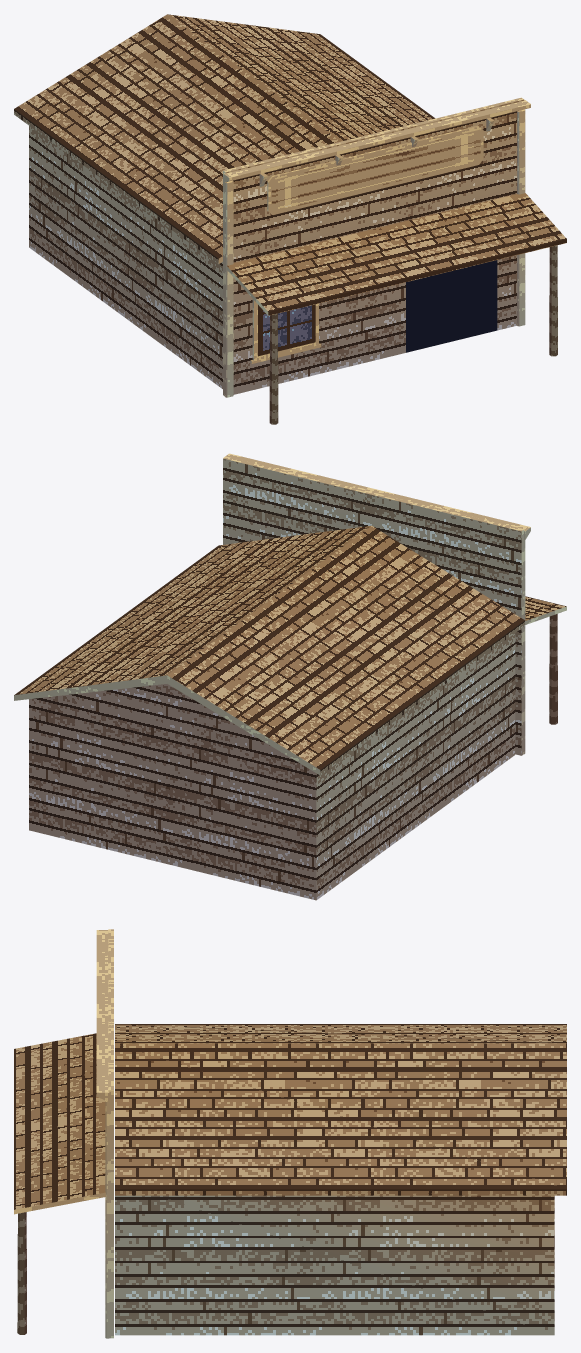
Rendered from wtown.store__entry.glb.
3 views of the same model, one above another, from view 1: azimuth 30°, elevation 25°; view 2: azimuth 150°, elevation 25°; view 3: azimuth 270°, elevation 25° (orthographic). The views are drawn at different scales.
Parts seen in each view (by area): view 1: kit_roof, kit_front, kit_body, kit_porch, kit_card_panes, kit_trim, kit_windows; view 2: kit_body, kit_roof, kit_front, kit_trim, kit_porch; view 3: kit_roof, kit_body, kit_porch, kit_trim, kit_front.
Part boxes in pixels (bbox=[...]): kit_roof: bbox=[14, 14, 435, 264]; kit_front: bbox=[223, 97, 524, 395]; kit_body: bbox=[29, 126, 222, 388]; kit_porch: bbox=[226, 193, 566, 424]; kit_card_panes: bbox=[258, 129, 497, 356]; kit_trim: bbox=[223, 100, 530, 397]; kit_windows: bbox=[250, 299, 321, 363]; kit_body: bbox=[29, 633, 515, 900]; kit_roof: bbox=[14, 525, 524, 775]; kit_front: bbox=[223, 456, 524, 755]; kit_trim: bbox=[224, 453, 530, 754]; kit_porch: bbox=[525, 596, 566, 724]; kit_roof: bbox=[115, 1024, 566, 1195]; kit_body: bbox=[115, 1195, 554, 1335]; kit_porch: bbox=[14, 1033, 105, 1334]; kit_trim: bbox=[96, 930, 109, 1338]; kit_front: bbox=[108, 929, 113, 1338].
Size of the model in its own units: 8 by 5.6 by 11.32.
Materials: 7 (7 with a texture image).
